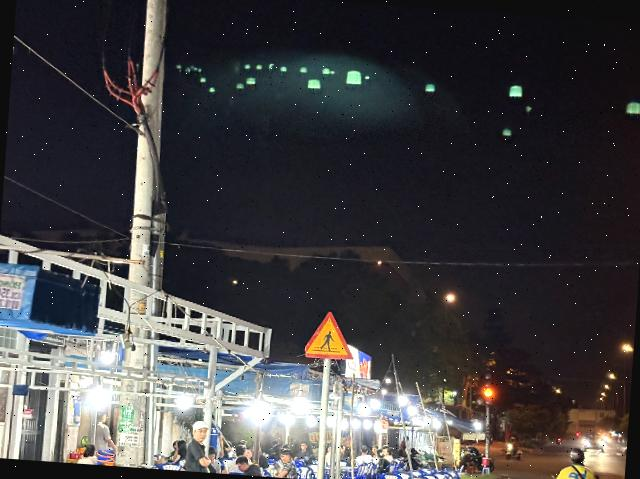duong-nguoi-di-bo-cat-ngang: (302, 310, 356, 360)
